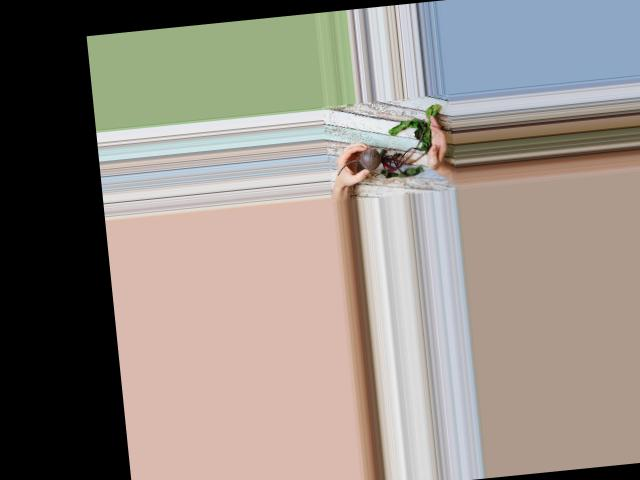beet: (331, 103, 446, 182)
